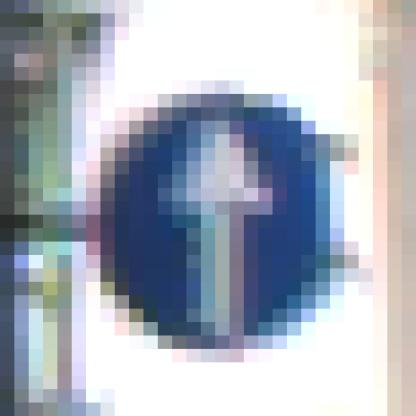AheadOnly: (87, 81, 345, 350)
